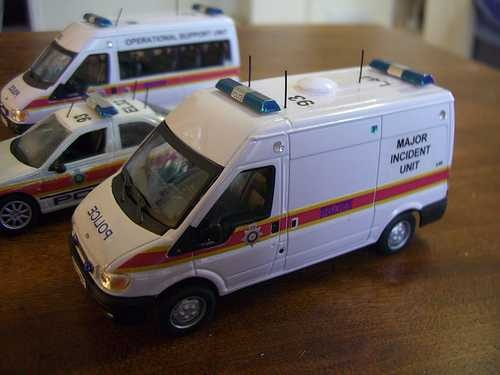Ambulance: (59, 74, 459, 310)
